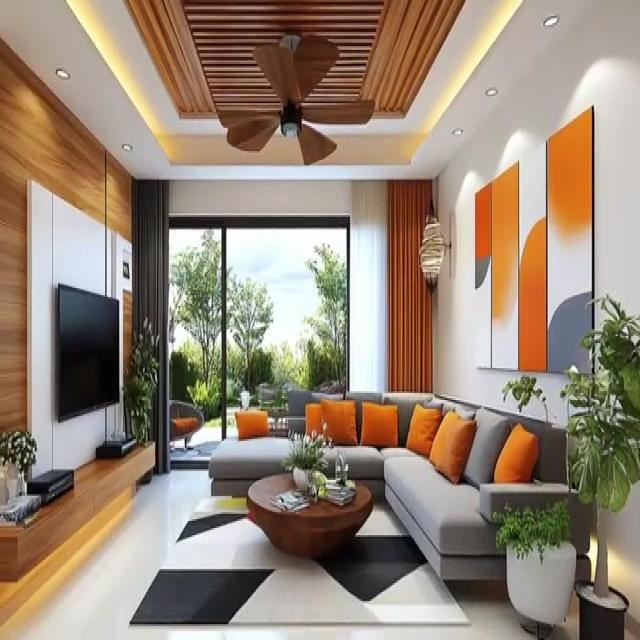obstacle: (208, 388, 592, 583), (0, 427, 156, 581), (246, 469, 373, 558), (169, 398, 204, 450)
